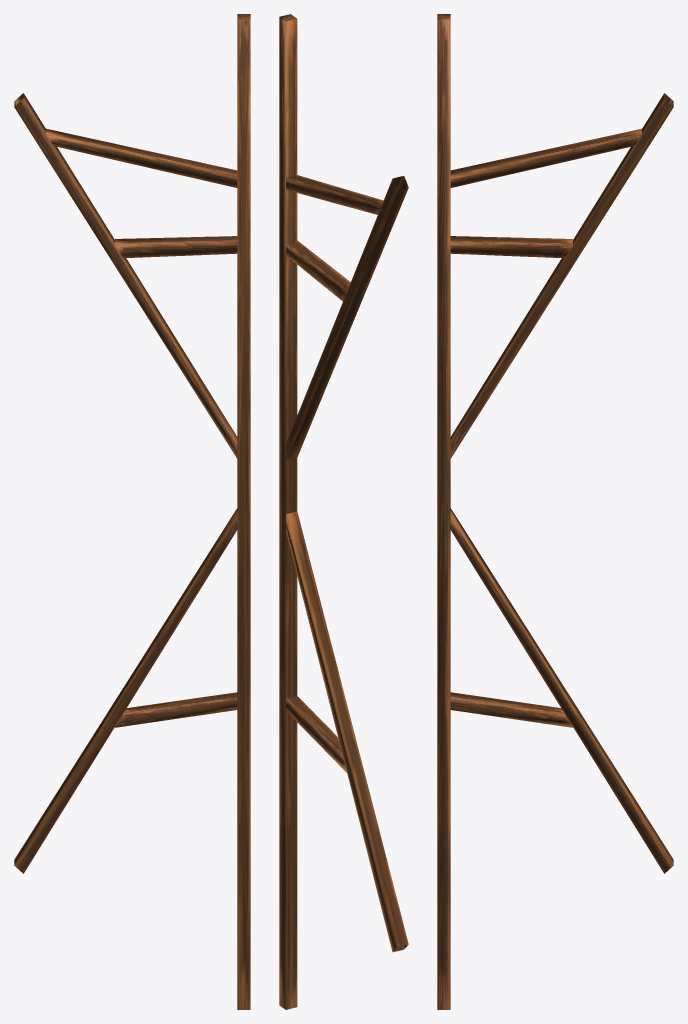
The model's file is INST_SWORDLIGHT_SUPPORT.fbx.
3 views of the same model, side by side, from view 1: azimuth 90°, elevation 25°; view 2: azimuth 210°, elevation 25°; view 3: azimuth 270°, elevation 25° (orthographic).
Visible parts, largest first — view 1: INST_SWORDLIGHT_SUPPORT; view 2: INST_SWORDLIGHT_SUPPORT; view 3: INST_SWORDLIGHT_SUPPORT.
Part boxes in pixels (x1=…): INST_SWORDLIGHT_SUPPORT: x1=14, y1=14, x2=250, y2=1009; INST_SWORDLIGHT_SUPPORT: x1=279, y1=14, x2=408, y2=1009; INST_SWORDLIGHT_SUPPORT: x1=437, y1=14, x2=673, y2=1009.
Bounding box in the file's own units: 1750 × 143393 × 31055.
1 material, 1 textured.
